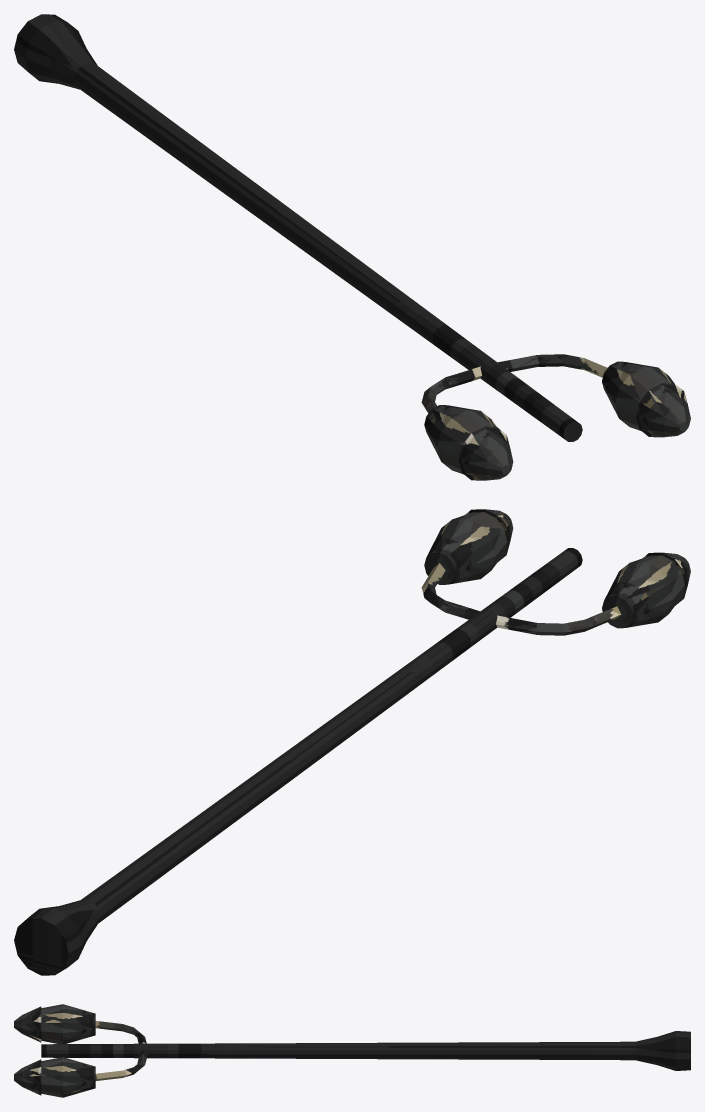
File: pz_street_pole_06.obj
The picture shows the model from 3 angles, top to bottom: view 1: azimuth 30°, elevation 25°; view 2: azimuth 150°, elevation 25°; view 3: azimuth 270°, elevation 25°; orthographic projection. The views are drawn at different scales.
Visible parts, largest first — view 1: pz_street_pole_06_|_tapered_native_street_pole, pz_street_pole_06_|_curved_native_lantern_glass.001, pz_street_pole_06_|_curved_native_lantern_glass, pz_street_pole_06_|_lantern_cap.001, pz_street_pole_06_|_lantern_cap, pz_street_pole_06_|_EDITABLE_ornamental_lamp_arm.001, pz_street_pole_06_|_EDITABLE_ornamental_lamp_arm; view 2: pz_street_pole_06_|_tapered_native_street_pole, pz_street_pole_06_|_curved_native_lantern_glass, pz_street_pole_06_|_curved_native_lantern_glass.001, pz_street_pole_06_|_EDITABLE_ornamental_lamp_arm, pz_street_pole_06_|_EDITABLE_ornamental_lamp_arm.001; view 3: pz_street_pole_06_|_tapered_native_street_pole, pz_street_pole_06_|_curved_native_lantern_glass.001, pz_street_pole_06_|_curved_native_lantern_glass, pz_street_pole_06_|_lantern_cap, pz_street_pole_06_|_lantern_cap.001, pz_street_pole_06_|_EDITABLE_ornamental_lamp_arm.001, pz_street_pole_06_|_EDITABLE_ornamental_lamp_arm.
Boxes of the visible parts, x1,y1,x2,y2 form: pz_street_pole_06_|_tapered_native_street_pole: (14, 14, 582, 441); pz_street_pole_06_|_curved_native_lantern_glass.001: (602, 361, 674, 430); pz_street_pole_06_|_curved_native_lantern_glass: (424, 405, 496, 474); pz_street_pole_06_|_lantern_cap.001: (636, 383, 690, 437); pz_street_pole_06_|_lantern_cap: (458, 426, 513, 480); pz_street_pole_06_|_EDITABLE_ornamental_lamp_arm.001: (498, 354, 607, 377); pz_street_pole_06_|_EDITABLE_ornamental_lamp_arm: (421, 366, 481, 413); pz_street_pole_06_|_tapered_native_street_pole: (14, 548, 582, 975); pz_street_pole_06_|_curved_native_lantern_glass: (602, 555, 684, 628); pz_street_pole_06_|_curved_native_lantern_glass.001: (424, 512, 507, 584); pz_street_pole_06_|_EDITABLE_ornamental_lamp_arm: (496, 606, 621, 635); pz_street_pole_06_|_EDITABLE_ornamental_lamp_arm.001: (421, 563, 479, 619); pz_street_pole_06_|_tapered_native_street_pole: (41, 1031, 690, 1070); pz_street_pole_06_|_curved_native_lantern_glass.001: (41, 1057, 95, 1097); pz_street_pole_06_|_curved_native_lantern_glass: (41, 1004, 95, 1043); pz_street_pole_06_|_lantern_cap: (14, 1006, 41, 1042); pz_street_pole_06_|_lantern_cap.001: (14, 1059, 41, 1095); pz_street_pole_06_|_EDITABLE_ornamental_lamp_arm.001: (95, 1050, 147, 1080); pz_street_pole_06_|_EDITABLE_ornamental_lamp_arm: (95, 1021, 146, 1043).
Size of the model in its own units: 0.61 by 0.15 by 2.49.
Materials: 2 (2 with a texture image).
